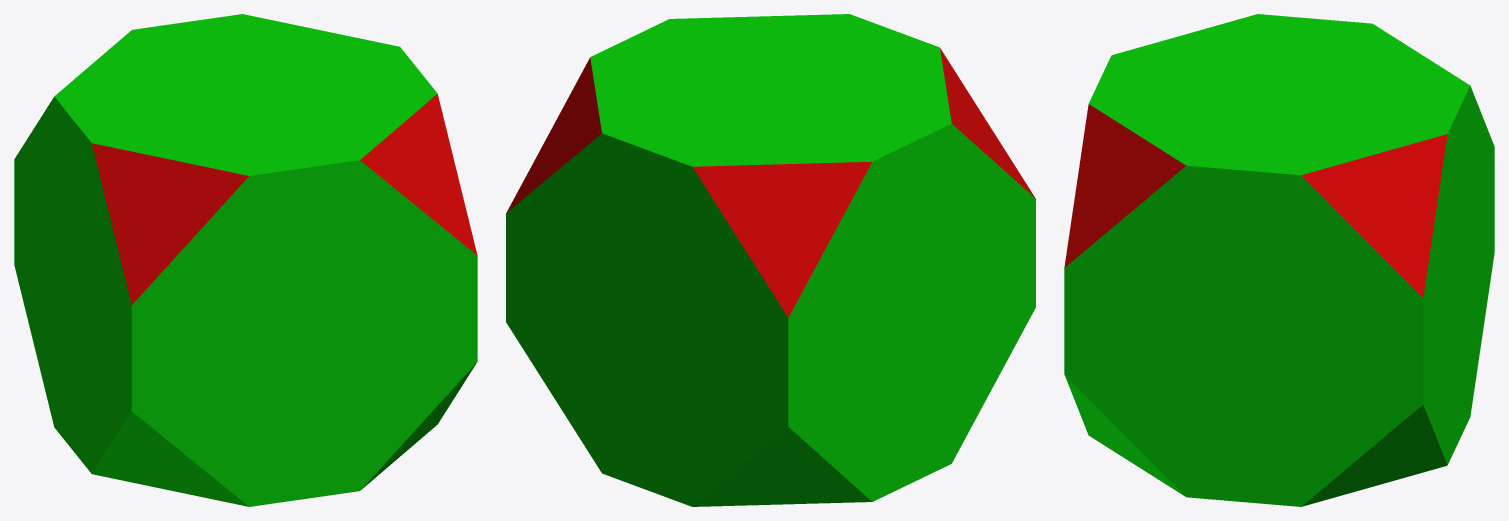
The model's file is anim_cube_000027.obj.
The picture shows the model from 3 angles, left to right: view 1: azimuth 30°, elevation 25°; view 2: azimuth 150°, elevation 25°; view 3: azimuth 270°, elevation 25°; orthographic projection. The views are drawn at different scales.
Parts seen in each view (by area): view 1: Cube_Cube.002_Material.002, Cube_Cube.002_Material.001; view 2: Cube_Cube.002_Material.002, Cube_Cube.002_Material.001; view 3: Cube_Cube.002_Material.002, Cube_Cube.002_Material.001.
Boxes of the visible parts, x1,y1,x2,y2 form: Cube_Cube.002_Material.002: (14,14,477,506); Cube_Cube.002_Material.001: (92,94,477,304); Cube_Cube.002_Material.002: (506,14,1035,506); Cube_Cube.002_Material.001: (506,48,1034,317); Cube_Cube.002_Material.002: (1064,14,1494,506); Cube_Cube.002_Material.001: (1064,104,1447,297).
Bounding box in the file's own units: 3.64 × 3.09 × 3.64.
